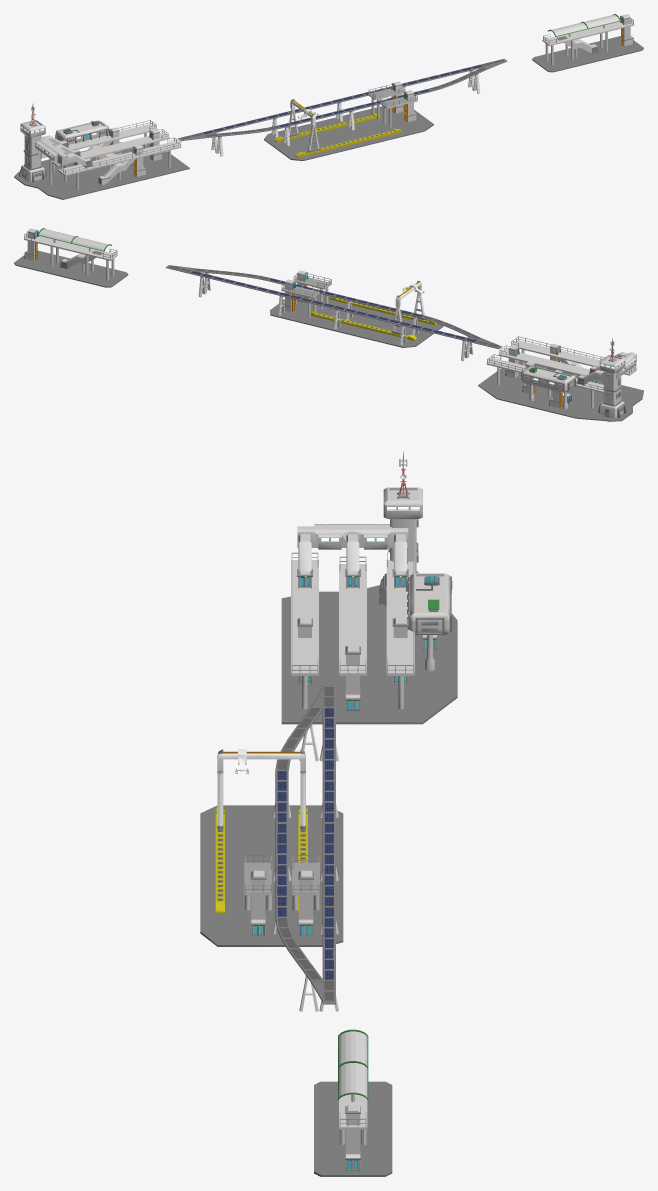
The model's file is Low_poly_Train_Station.glb.
3 views of the same model, one above another, from view 1: azimuth 30°, elevation 25°; view 2: azimuth 150°, elevation 25°; view 3: azimuth 270°, elevation 25° (orthographic). The views are drawn at different scales.
Visible parts, largest first — view 1: Main_train_station__0, Truck_Working_Station__0, _train_station__0; view 2: Main_train_station__0, Truck_Working_Station__0, _train_station__0; view 3: Main_train_station__0, Truck_Working_Station__0, _train_station__0.
Boxes of the visible parts, <box> form: Main_train_station__0: <box>14,103,189,199</box>; Truck_Working_Station__0: <box>177,59,507,160</box>; _train_station__0: <box>532,14,643,72</box>; Main_train_station__0: <box>478,336,643,421</box>; Truck_Working_Station__0: <box>165,265,502,361</box>; _train_station__0: <box>14,228,128,287</box>; Main_train_station__0: <box>281,451,457,724</box>; Truck_Working_Station__0: <box>200,684,343,1011</box>; _train_station__0: <box>314,1029,392,1176</box>.
Size of the model in its own units: 55.75 by 6.64 by 10.27.
Materials: 4 (3 with a texture image).
